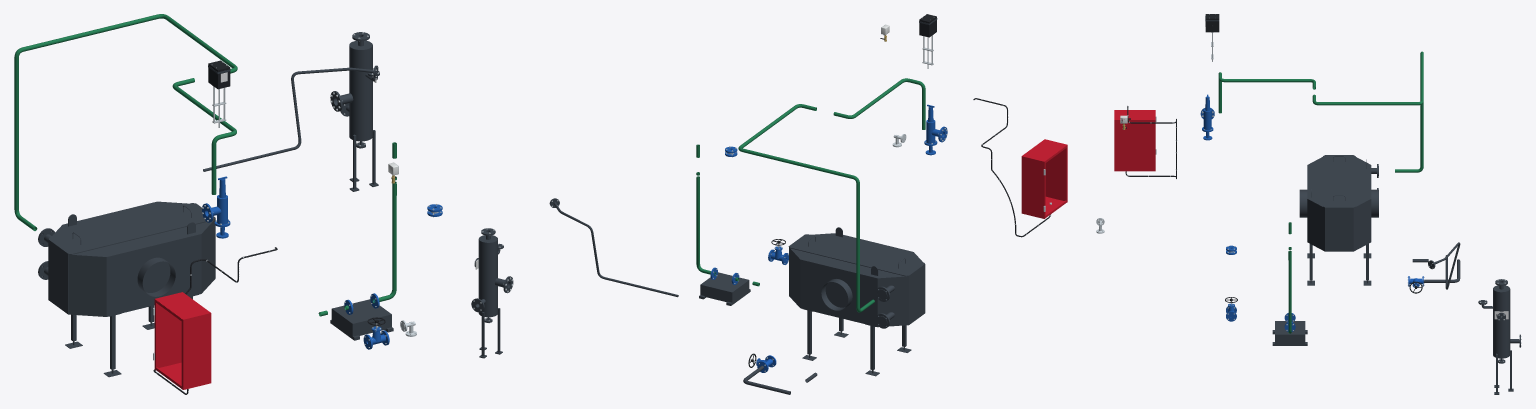
File: s4000-6-BvWMcPJ8.glb
3 renders of one model, left to right at view 1: azimuth 30°, elevation 25°; view 2: azimuth 150°, elevation 25°; view 3: azimuth 270°, elevation 25°, orthographic. The views are drawn at different scales.
Visible parts, largest first — view 1: EQS2-1500 CAD 3, EQS2-1500 CAD 0, control_cabinet / control_cabinet_0.npz, separator_fv8 / dark, EQS2-1500 CAD 1, from_economizer / green, pump_branch_2 / dark, tds_without_fv / dark, direct_inlet / green, pump_branch_2 / green, safety_2 / blue, gpz_drive / black (+3 smaller); view 2: EQS2-1500 CAD 3, EQS2-1500 CAD 0, control_cabinet / control_cabinet_0.npz, separator_fv8 / dark, EQS2-1500 CAD 2, from_economizer / green, pump_branch_2 / dark, direct_inlet / green, tds_without_fv / dark, pump_branch_2 / green; view 3: EQS2-1500 CAD 3, control_cabinet / control_cabinet_0.npz, separator_fv8 / dark, from_economizer / green, EQS2-1500 CAD 0, pump_branch_2 / dark, direct_inlet / green, pump_branch_2 / green.
Part boxes in pixels (box(x1,y1,x2,y2)): EQS2-1500 CAD 3: box(48, 201, 215, 314); EQS2-1500 CAD 0: box(65, 234, 201, 377); control_cabinet / control_cabinet_0.npz: box(153, 292, 211, 389); separator_fv8 / dark: box(330, 32, 379, 191); EQS2-1500 CAD 1: box(68, 254, 106, 316); from_economizer / green: box(14, 14, 237, 230); pump_branch_2 / dark: box(330, 299, 393, 340); tds_without_fv / dark: box(203, 65, 378, 171); direct_inlet / green: box(172, 78, 236, 194); pump_branch_2 / green: box(318, 142, 396, 316); safety_2 / blue: box(202, 176, 230, 227); gpz_drive / black: box(208, 60, 230, 89); EQS2-1500 CAD 3: box(788, 227, 925, 324); EQS2-1500 CAD 0: box(800, 259, 911, 376); control_cabinet / control_cabinet_0.npz: box(1021, 139, 1067, 218); separator_fv8 / dark: box(471, 228, 513, 358); EQS2-1500 CAD 2: box(875, 276, 908, 328); from_economizer / green: box(738, 104, 874, 312); pump_branch_2 / dark: box(699, 272, 750, 305); direct_inlet / green: box(833, 78, 925, 129); tds_without_fv / dark: box(549, 198, 678, 297); pump_branch_2 / green: box(696, 144, 759, 286); EQS2-1500 CAD 3: box(1307, 155, 1371, 251); control_cabinet / control_cabinet_0.npz: box(1114, 110, 1156, 171); separator_fv8 / dark: box(1478, 279, 1520, 394); from_economizer / green: box(1312, 51, 1423, 172); EQS2-1500 CAD 0: box(1299, 189, 1378, 285); pump_branch_2 / dark: box(1272, 321, 1307, 345); direct_inlet / green: box(1218, 72, 1315, 113); pump_branch_2 / green: box(1288, 222, 1291, 333).
Size of the model in its own units: 4.93 by 3.58 by 5.43.
